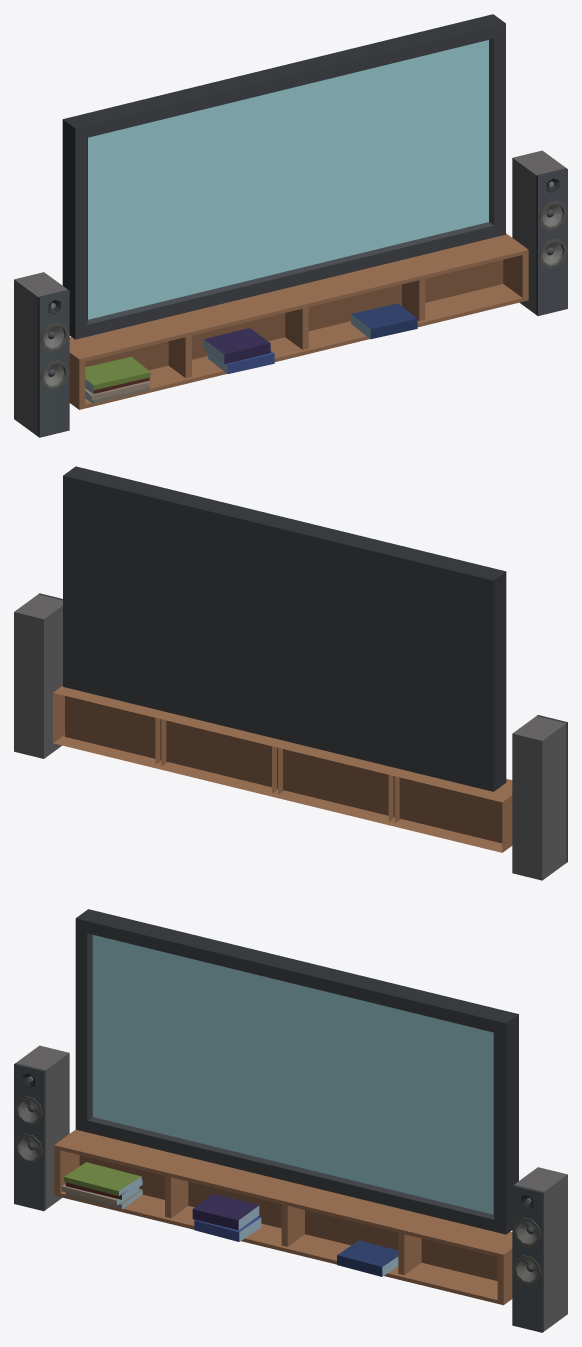
The model's file is SM_GameArea_Screen_02.fbx.
3 renders of one model, top to bottom at view 1: azimuth 30°, elevation 25°; view 2: azimuth 150°, elevation 25°; view 3: azimuth 330°, elevation 25°, orthographic.
Parts seen in each view (by area): view 1: SM_GameArea_Screen_02; view 2: SM_GameArea_Screen_02; view 3: SM_GameArea_Screen_02.
Part boxes in pixels (left/top/right/bottom): SM_GameArea_Screen_02: left=14, top=14, right=567, bottom=437; SM_GameArea_Screen_02: left=14, top=466, right=567, bottom=880; SM_GameArea_Screen_02: left=14, top=909, right=567, bottom=1332.
Size of what is drawn, in the model's own units: 2162 by 1126 by 216.
